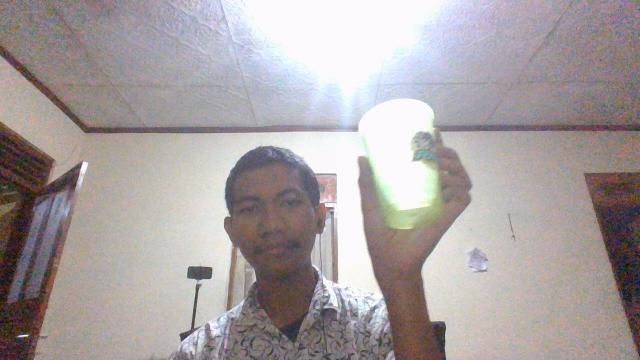botol-hijau: (356, 96, 446, 230)
